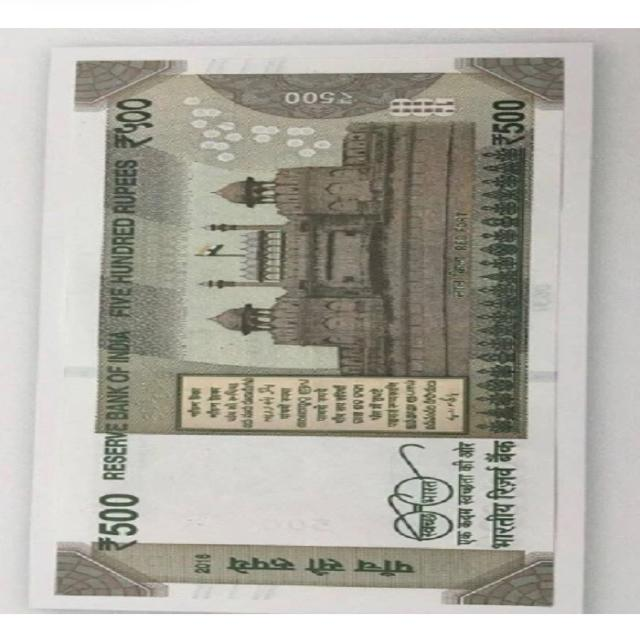500IndianRupees: (57, 46, 590, 610)
